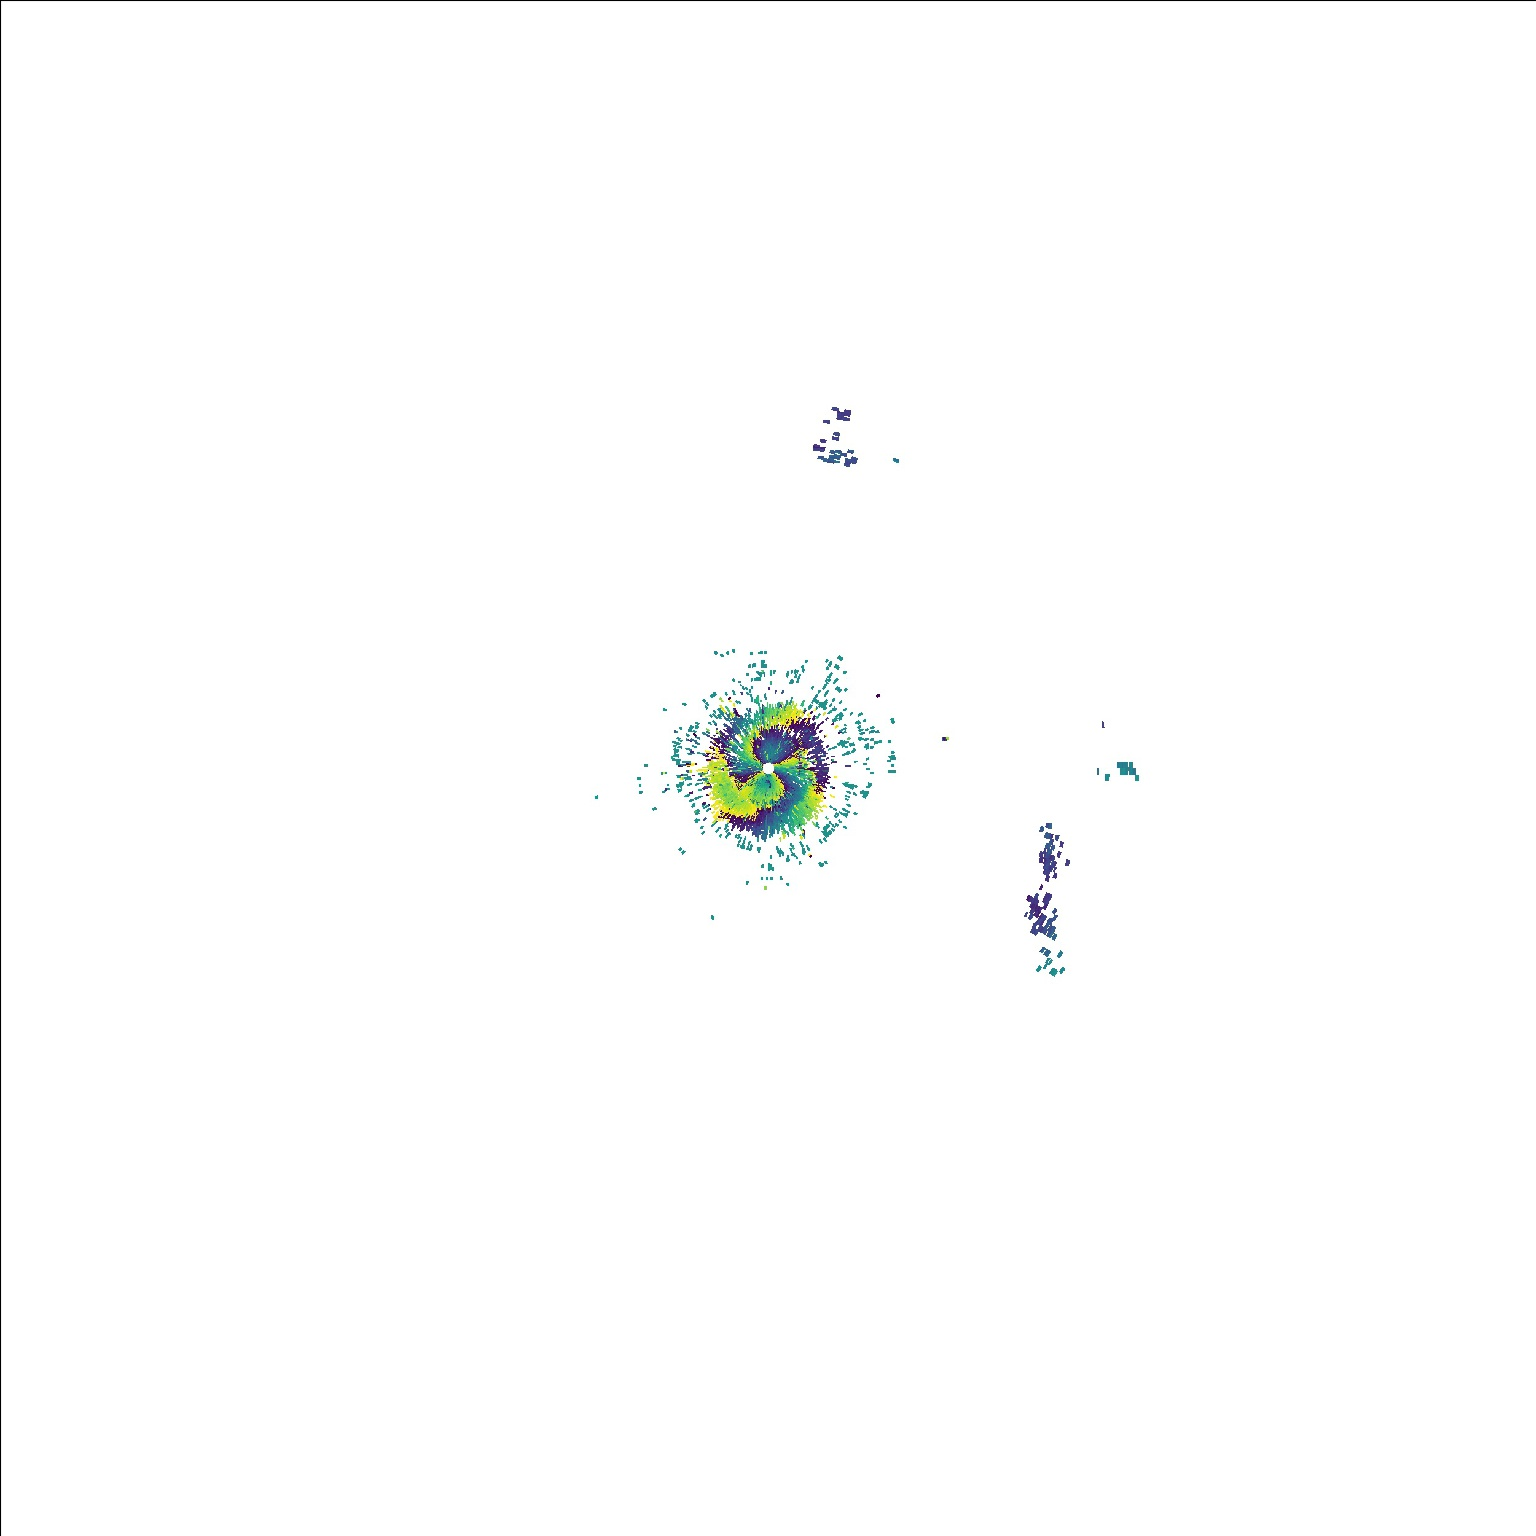fall: (935, 733, 955, 745)
